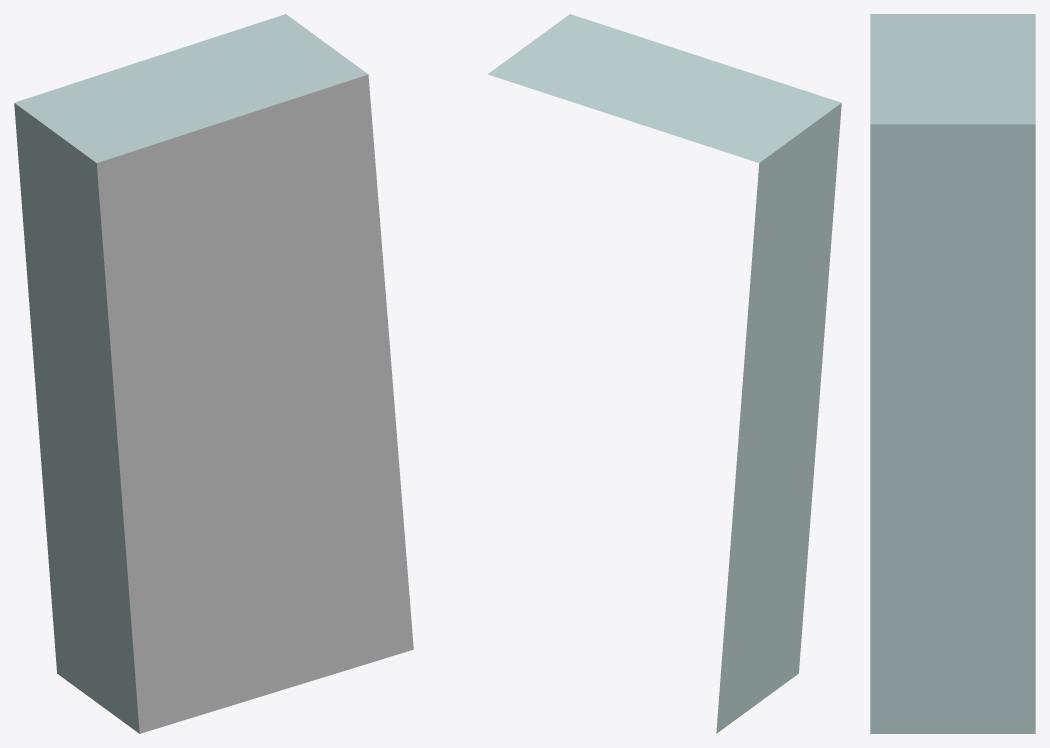
The picture shows the model from 3 angles, left to right: view 1: azimuth 30°, elevation 25°; view 2: azimuth 150°, elevation 25°; view 3: azimuth 270°, elevation 25°; orthographic projection.
Parts seen in each view (by area): view 1: 0_0_2_3_2_2_3_1_3; view 2: 0_0_2_3_2_2_3_1_3; view 3: 0_0_2_3_2_2_3_1_3.
Boxes of the visible parts, x1,y1,x2,y2 form: 0_0_2_3_2_2_3_1_3: (14, 14, 413, 733); 0_0_2_3_2_2_3_1_3: (488, 14, 841, 733); 0_0_2_3_2_2_3_1_3: (870, 14, 1035, 733).
Bounding box in the file's own units: 6.65 × 12.1 × 3.
